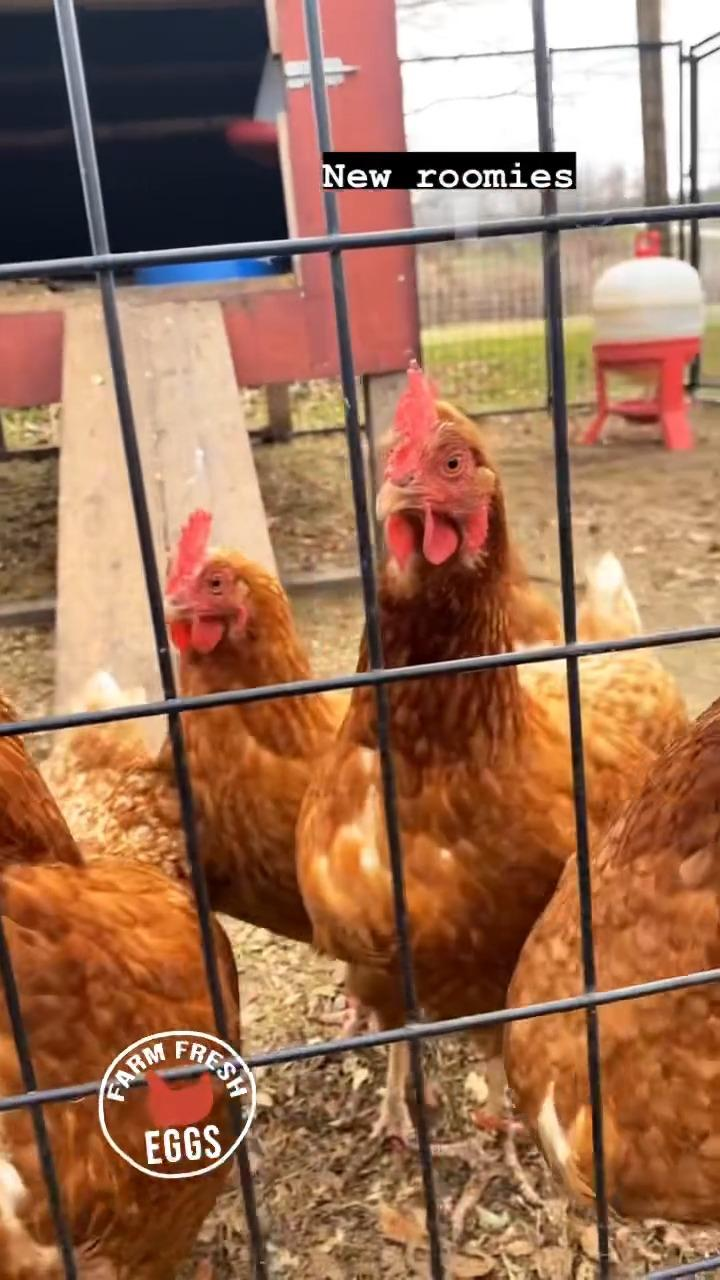rooster: (291, 358, 686, 1235), (159, 506, 567, 1042), (0, 668, 245, 1279), (505, 686, 719, 1229)
